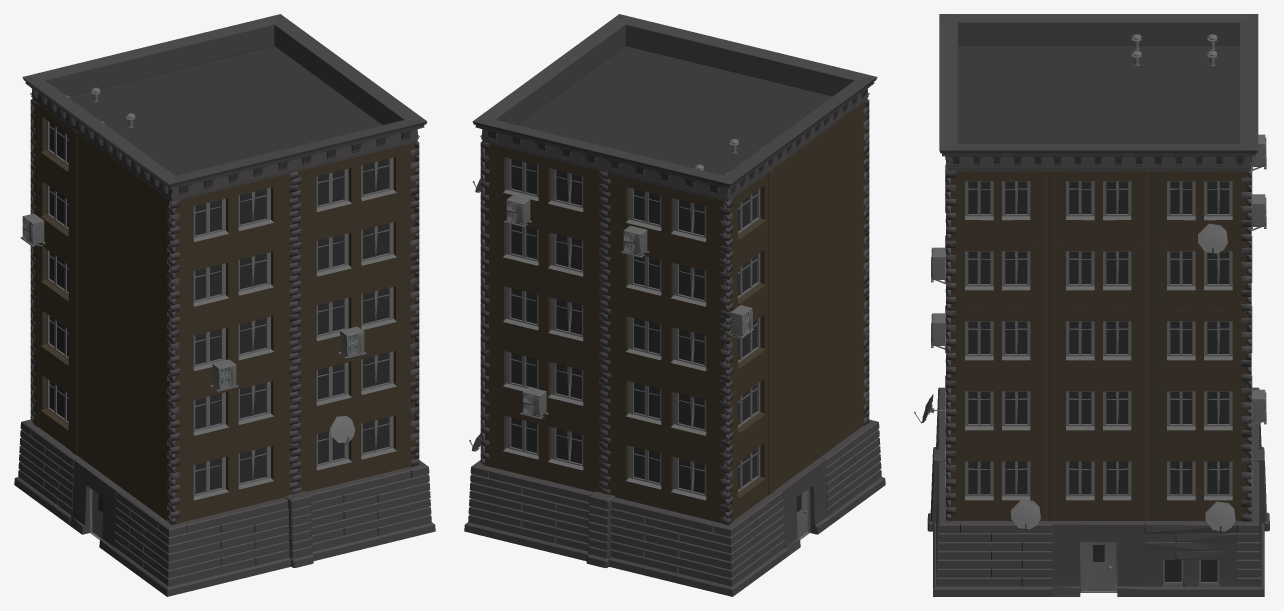
The picture shows the model from 3 angles, left to right: view 1: azimuth 30°, elevation 25°; view 2: azimuth 150°, elevation 25°; view 3: azimuth 270°, elevation 25°; orthographic projection. The views are drawn at different scales.
Visible parts, largest first — view 1: Plane.007, middle_floor_wall_02.035, middle_floor_wall_02.034, middle_floor_wall_02.031, middle_floor_wall_02.020, middle_floor_wall_02.019, ground_floor_wall_02.007, middle_floor_wall_02.032, middle_floor_wall_02.017, ground_floor_wall_02.004, middle_floor_wall_02.033, middle_floor_wall_02.016 (+47 smaller); view 2: Plane.007, middle_floor_wall_02.028, middle_floor_wall_02.027, middle_floor_wall_02.026, middle_floor_wall_02.023, ground_floor_wall_02.006, middle_floor_wall_02.021, ground_floor_wall_02.005, middle_floor_wall_02.029, middle_floor_wall_02.024, middle_floor_wall_02.030, middle_floor_wall_02.025 (+47 smaller); view 3: Plane.007, middle_floor_wall_02.014, middle_floor_wall_02.011, middle_floor_wall_02.008, middle_floor_wall_02.002, middle_floor_wall_02.005, ground_floor_wall_01.002, ground_floor_wall_02.003, ground_floor_wall_03.001, middle_floor_wall_02.013, middle_floor_wall_02.010, middle_floor_wall_02.009 (+40 smaller).
Part boxes in pixels (left/top/right/bottom): Plane.007: left=69, top=46, right=382, bottom=175; middle_floor_wall_02.035: left=172, top=172, right=294, bottom=265; middle_floor_wall_02.034: left=175, top=238, right=292, bottom=330; middle_floor_wall_02.031: left=175, top=432, right=292, bottom=523; middle_floor_wall_02.020: left=295, top=142, right=417, bottom=234; middle_floor_wall_02.019: left=298, top=207, right=414, bottom=299; ground_floor_wall_02.007: left=183, top=497, right=290, bottom=591; middle_floor_wall_02.032: left=175, top=367, right=292, bottom=459; middle_floor_wall_02.017: left=298, top=337, right=414, bottom=428; ground_floor_wall_02.004: left=306, top=467, right=413, bottom=560; middle_floor_wall_02.033: left=175, top=302, right=292, bottom=394; middle_floor_wall_02.016: left=298, top=401, right=414, bottom=491; Plane.007: left=517, top=46, right=832, bottom=175; middle_floor_wall_02.028: left=607, top=302, right=724, bottom=393; middle_floor_wall_02.027: left=607, top=367, right=724, bottom=458; middle_floor_wall_02.026: left=607, top=431, right=724, bottom=522; middle_floor_wall_02.023: left=485, top=273, right=601, bottom=364; ground_floor_wall_02.006: left=609, top=497, right=716, bottom=591; middle_floor_wall_02.021: left=485, top=402, right=601, bottom=492; ground_floor_wall_02.005: left=486, top=467, right=593, bottom=561; middle_floor_wall_02.029: left=607, top=237, right=724, bottom=329; middle_floor_wall_02.024: left=485, top=208, right=601, bottom=300; middle_floor_wall_02.030: left=605, top=172, right=727, bottom=264; middle_floor_wall_02.025: left=482, top=142, right=604, bottom=235; Plane.007: left=956, top=45, right=1244, bottom=171; middle_floor_wall_02.014: left=1048, top=170, right=1149, bottom=240; middle_floor_wall_02.011: left=1048, top=240, right=1149, bottom=310; middle_floor_wall_02.008: left=1048, top=310, right=1149, bottom=380; middle_floor_wall_02.002: left=1048, top=451, right=1149, bottom=520; middle_floor_wall_02.005: left=1048, top=381, right=1149, bottom=450; ground_floor_wall_01.002: left=1052, top=521, right=1144, bottom=596; ground_floor_wall_02.003: left=960, top=521, right=1052, bottom=596; ground_floor_wall_03.001: left=1145, top=521, right=1237, bottom=596; middle_floor_wall_02.013: left=947, top=170, right=1048, bottom=240; middle_floor_wall_02.010: left=950, top=240, right=1048, bottom=310; middle_floor_wall_02.009: left=1149, top=310, right=1246, bottom=380.
Size of the model in its own units: 1398 by 1918 by 1394.
